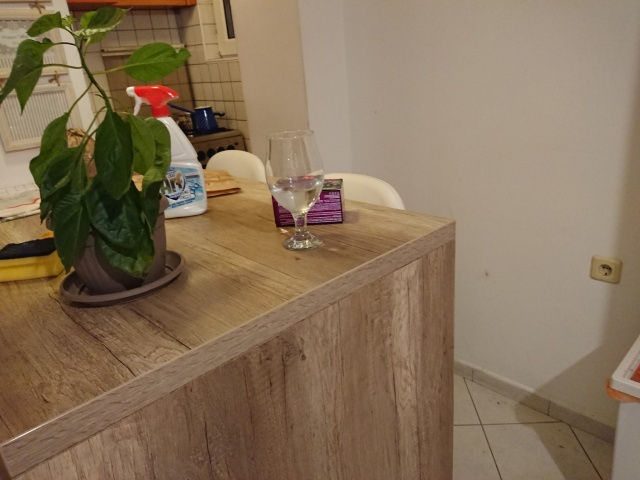Franck Black Currant Tea 60g: (269, 176, 348, 230)
